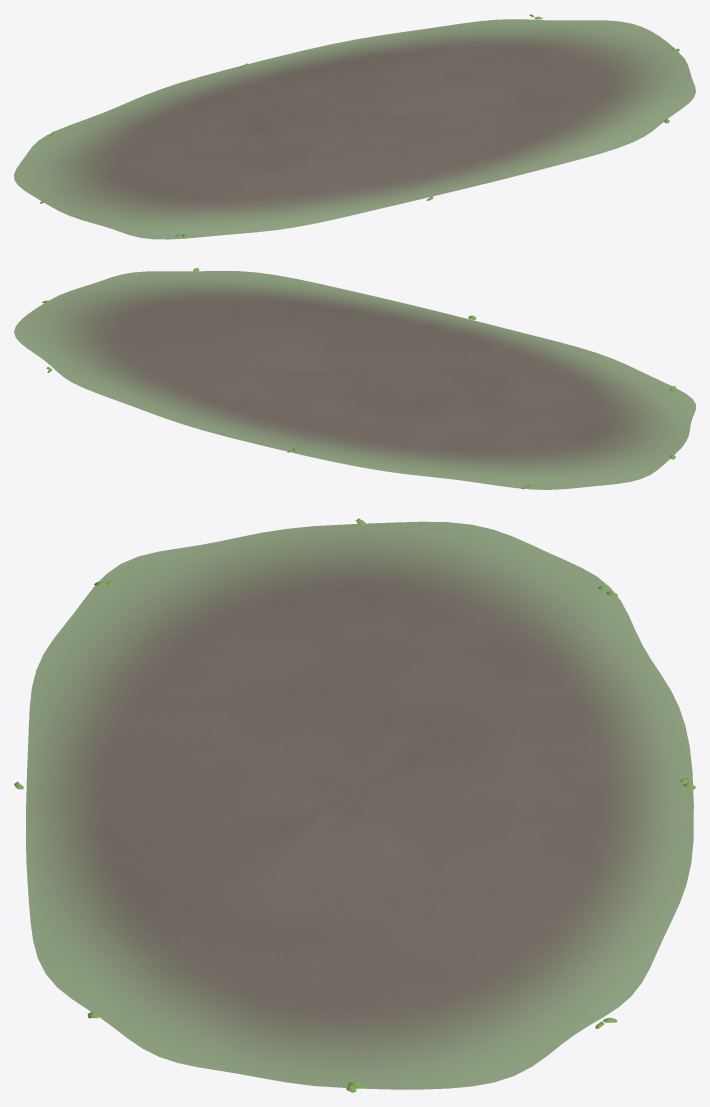
The model's file is strawberry_bed.glb.
3 renders of one model, top to bottom at view 1: azimuth 30°, elevation 25°; view 2: azimuth 150°, elevation 25°; view 3: azimuth 270°, elevation 25°, orthographic. The views are drawn at different scales.
Visible parts, largest first — view 1: StrawberryBed | continuous loam; view 2: StrawberryBed | continuous loam; view 3: StrawberryBed | continuous loam.
Part boxes in pixels (box(x1,y1,x2,y2)): StrawberryBed | continuous loam: box(14, 19, 695, 239); StrawberryBed | continuous loam: box(14, 271, 695, 489); StrawberryBed | continuous loam: box(25, 521, 693, 1089).
Bounding box in the file's own units: 8.9 × 0.1033 × 4.49.
3 materials, 1 textured.
